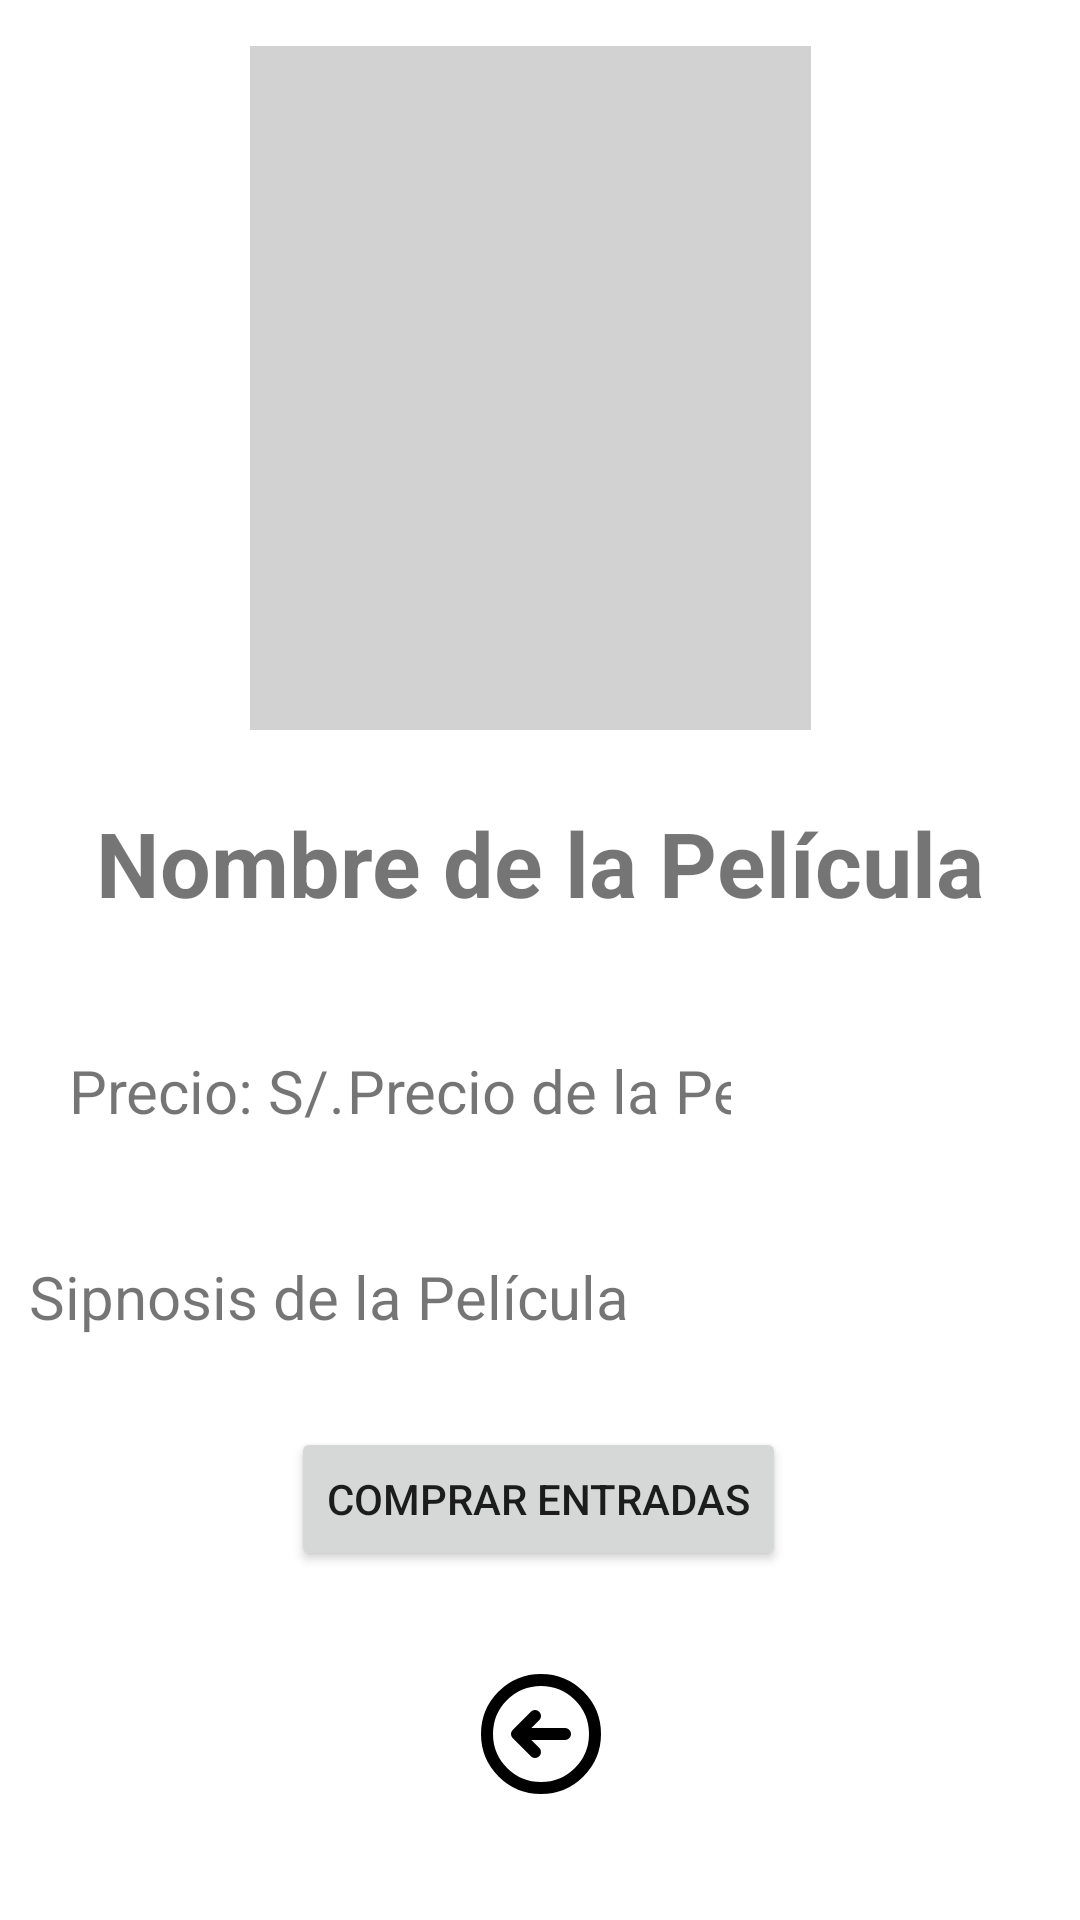

Screen size 1080 x 1920. Icon name, then its center in pixels as [x,y]:
regresar: [541,1734]
